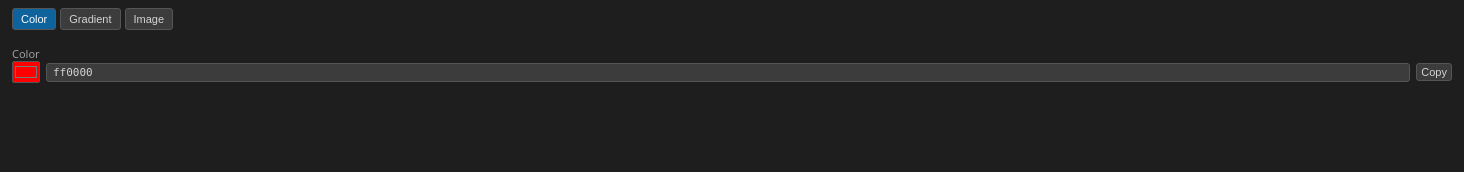
Test: ColorPickerUniversal › preserves inactive mode values when parent switches mode (controlled pattern)
Click the button "Gradient". click: (90, 19)
box: x1=60 y1=8 x2=120 y2=30
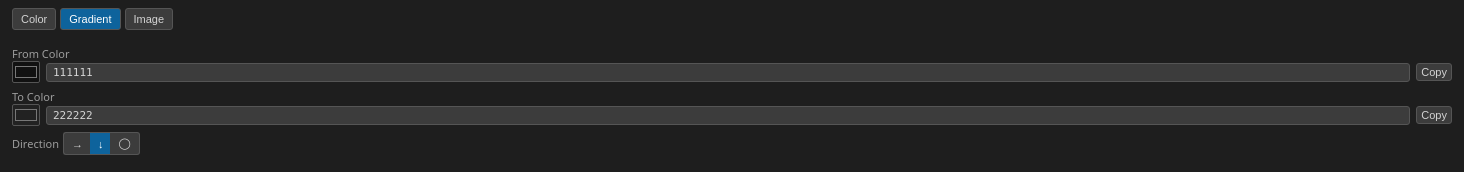
Result: the number of fields with placeholder "RRGGBB" is 2 at x1=46 y1=62 x2=1410 y2=82; x1=46 y1=106 x2=1410 y2=124
Click the button "Color". click: (34, 19)
box: x1=12 y1=8 x2=56 y2=30
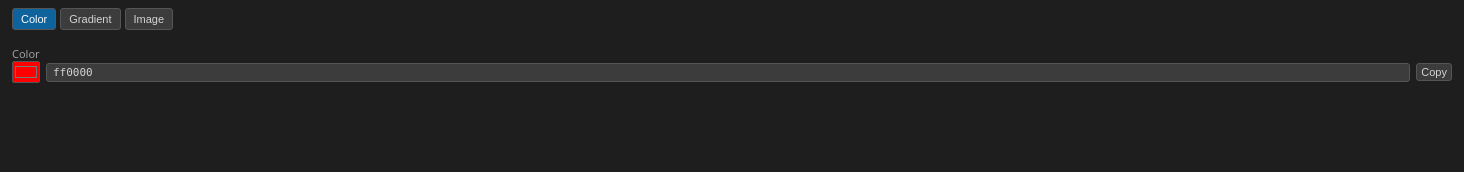
Result: the field with placeholder "RRGGBB" holds "ff0000" at x1=46 y1=62 x2=1410 y2=82
